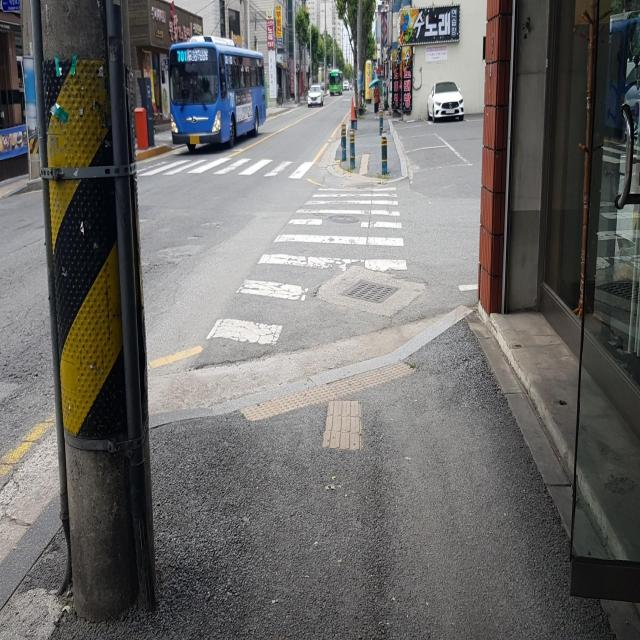횡단보도: (205, 186, 408, 348), (142, 150, 310, 187)
